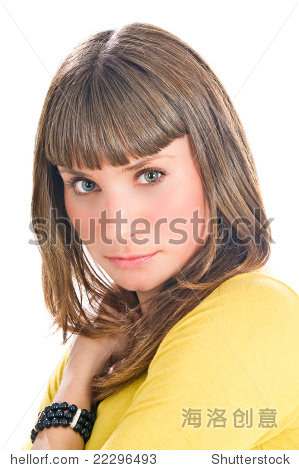other: (17, 19, 290, 451)
